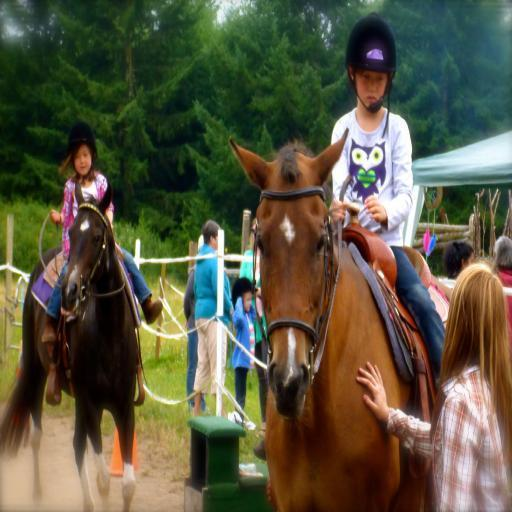horse: (228, 137, 454, 512), (0, 178, 140, 512)
